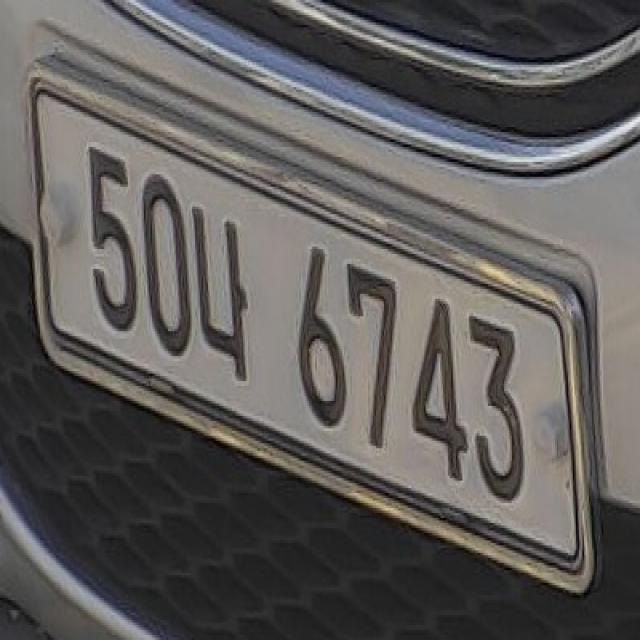0: (141, 166, 193, 366)
3: (468, 310, 527, 520)
4: (408, 294, 468, 488)
5: (82, 142, 140, 340)
6: (289, 241, 346, 433)
7: (348, 260, 398, 458)
license_plate: (21, 61, 597, 595)
na: (193, 189, 251, 395)
